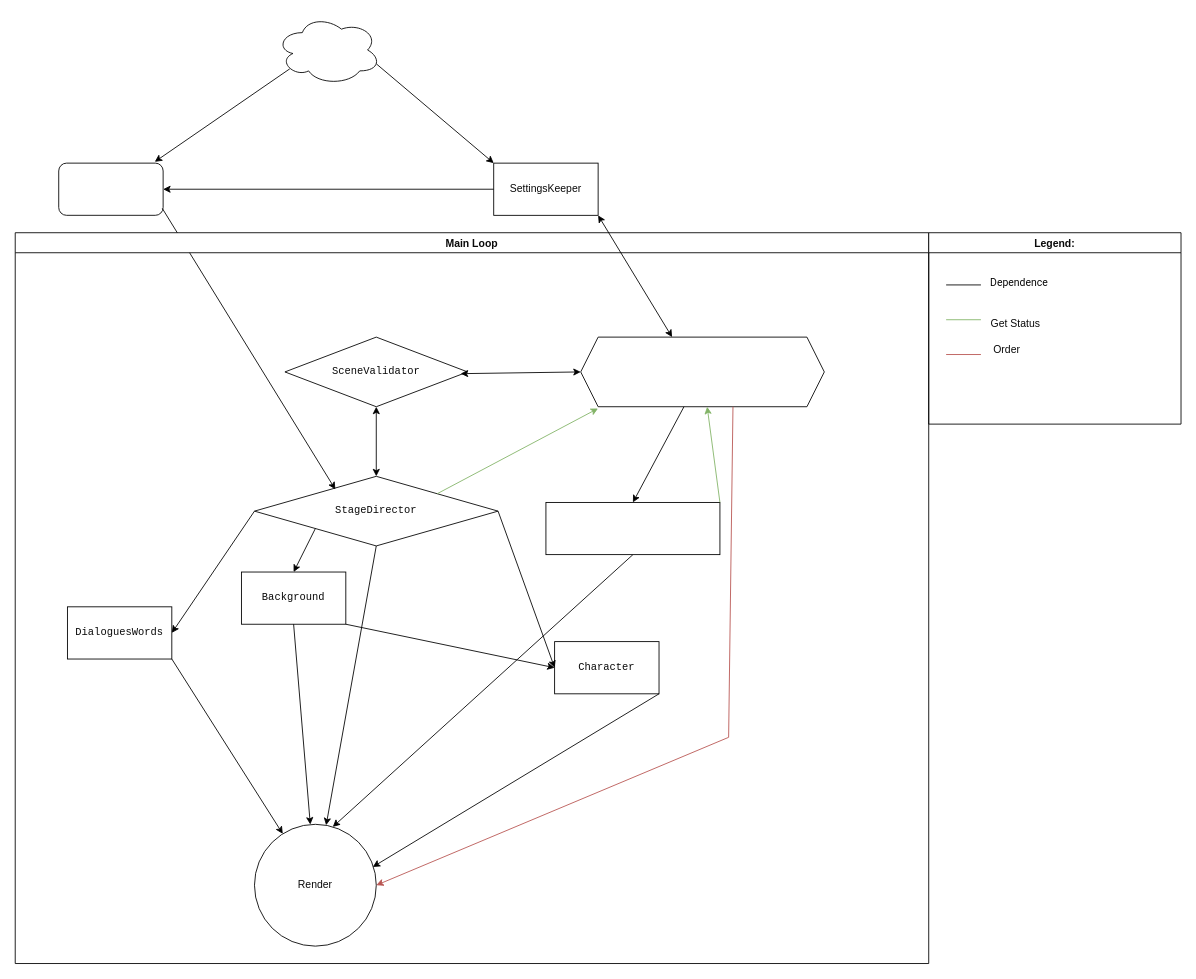
This 1196x979 diagram has some shape labels left out. The shapes that lost their labels are listed below. From the top down, each one's centre as x and y in pixels, then its label:
At [328,49]: "Initialization".
At [110,188]: "Display".
At [702,371]: "GameMaster".
At [632,528]: "InterfaceController".
